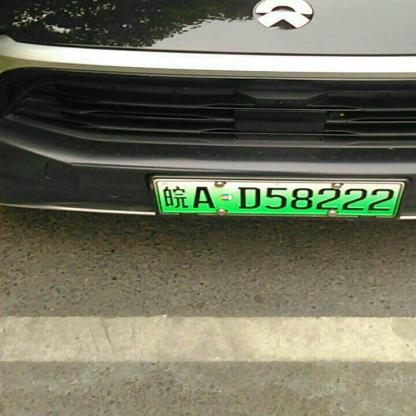lp: (151, 178, 406, 216)
